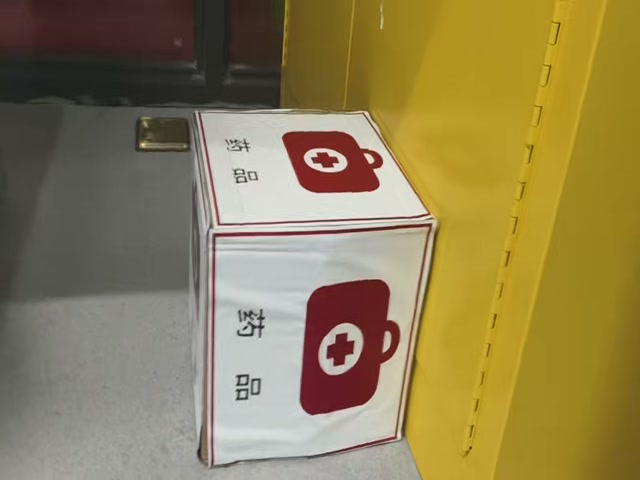Cube_medicine: (194, 111, 435, 236)
